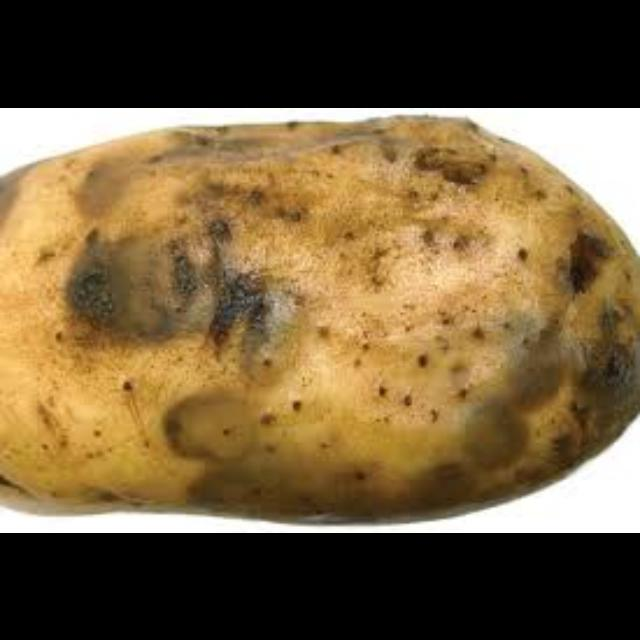Defected potato: (1, 124, 640, 522)
